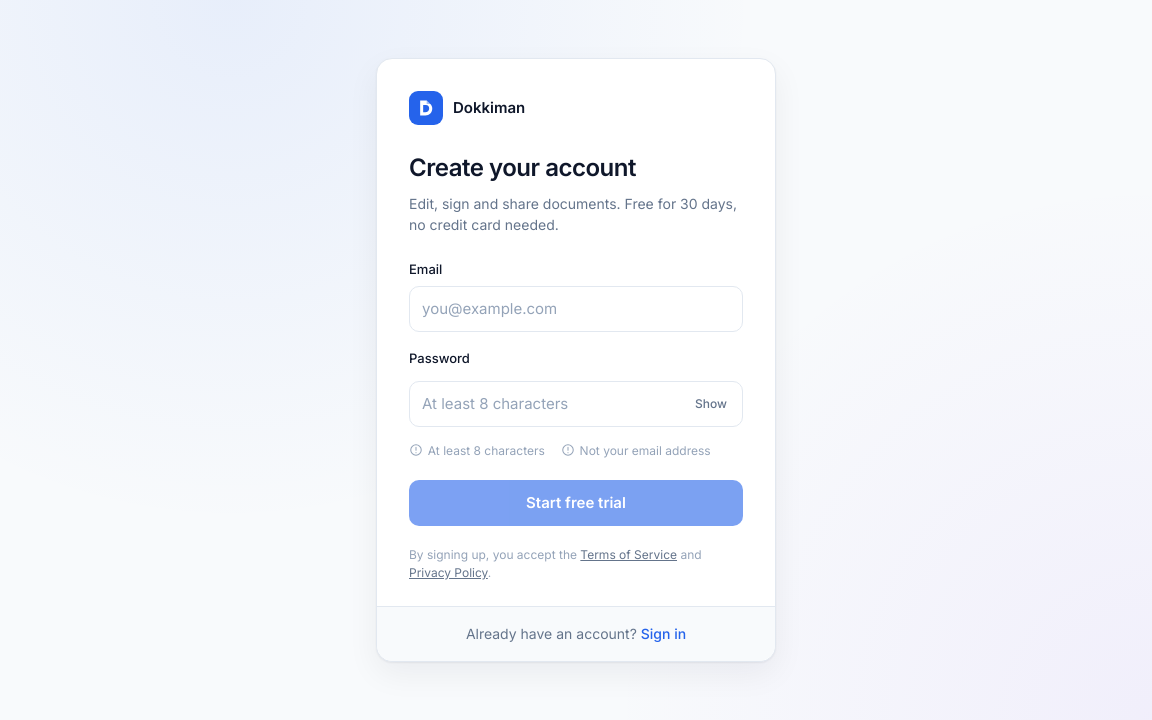
Test: an email that already has an account offers to sign in instead
Type "me@example.com" into the field labelled "Email" at (576, 309), box [409,286,743,332]
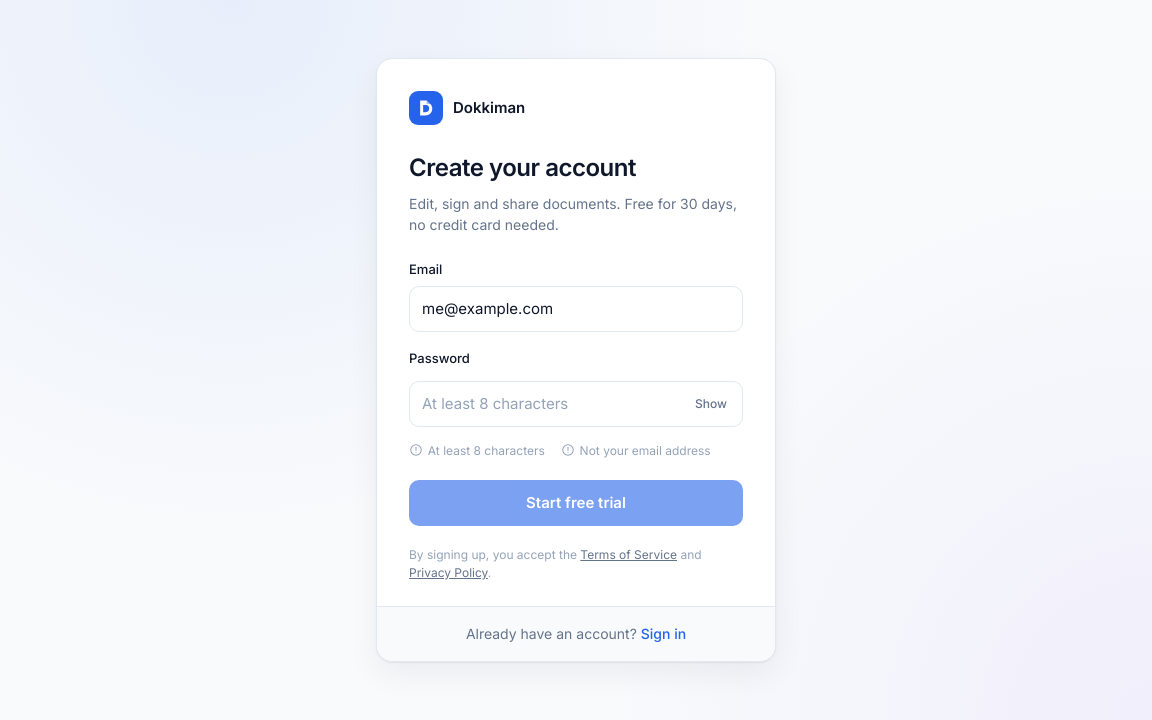
Type "password-123" into the password field labelled "Password" at (576, 404), box [409,381,743,427]
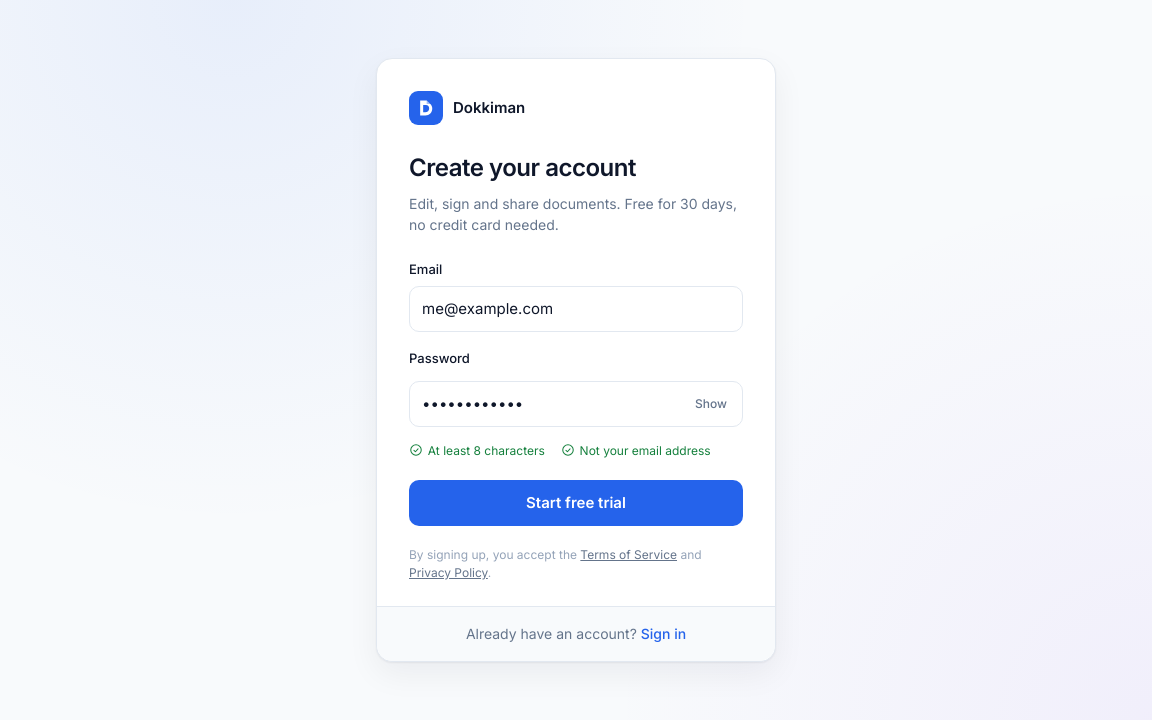
Click the button "Start free trial" at (576, 503), box [409,480,743,526]
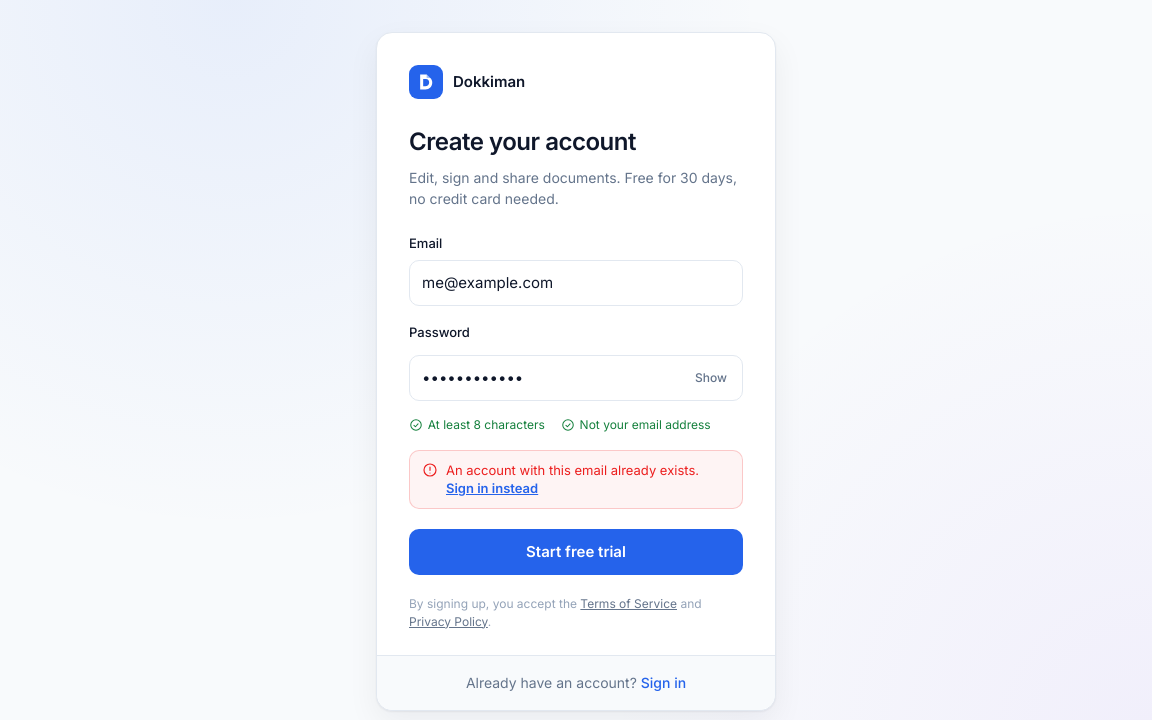
Click the button "Sign in instead" at (492, 488), box [446,479,538,498]
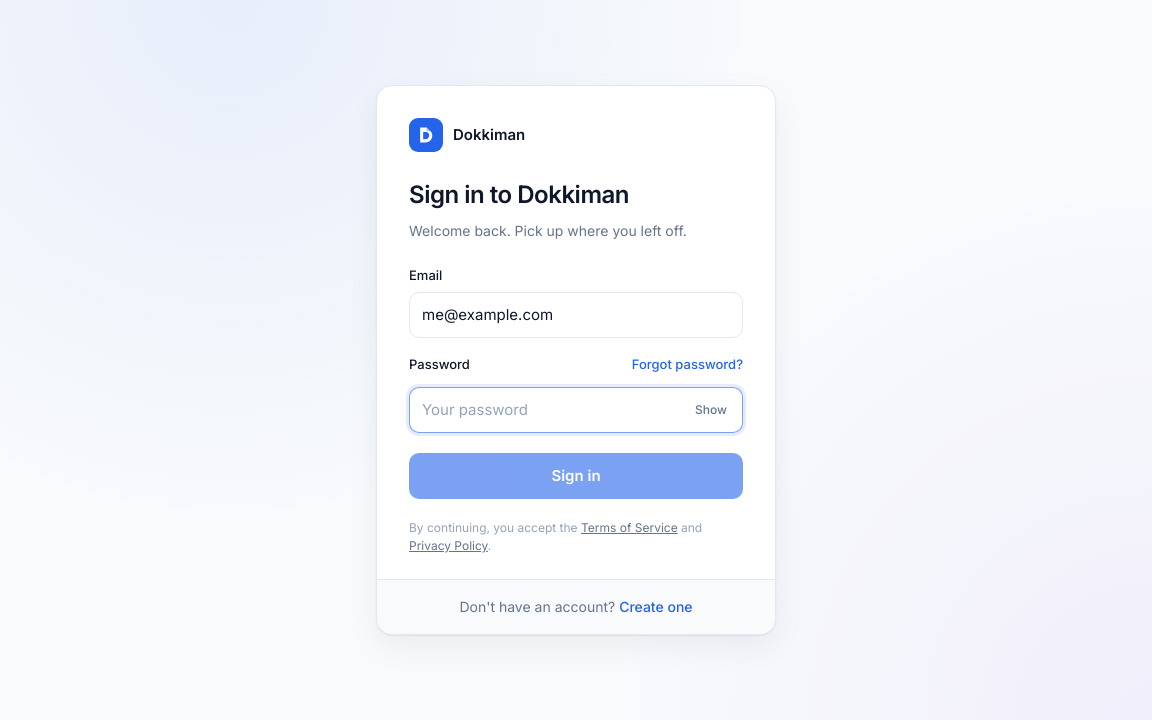
Check: the heading "Sign in to Dokkiman" is shown, box [409,180,629,209]
Check: the password field labelled "Password" is empty, box [409,387,743,433]
